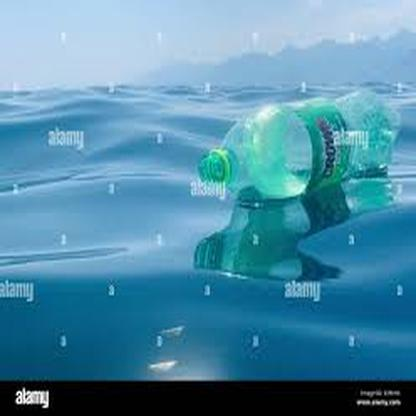plastic bottle: (198, 91, 395, 193)
